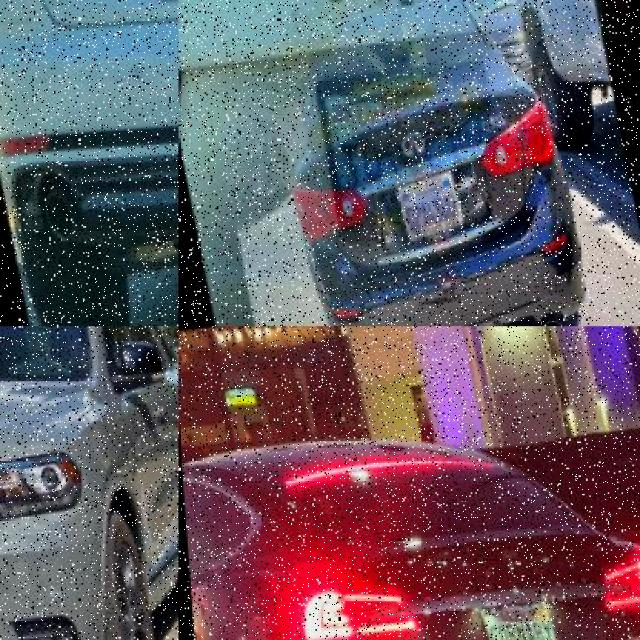licenseplate: (391, 169, 455, 233), (472, 598, 555, 640)
